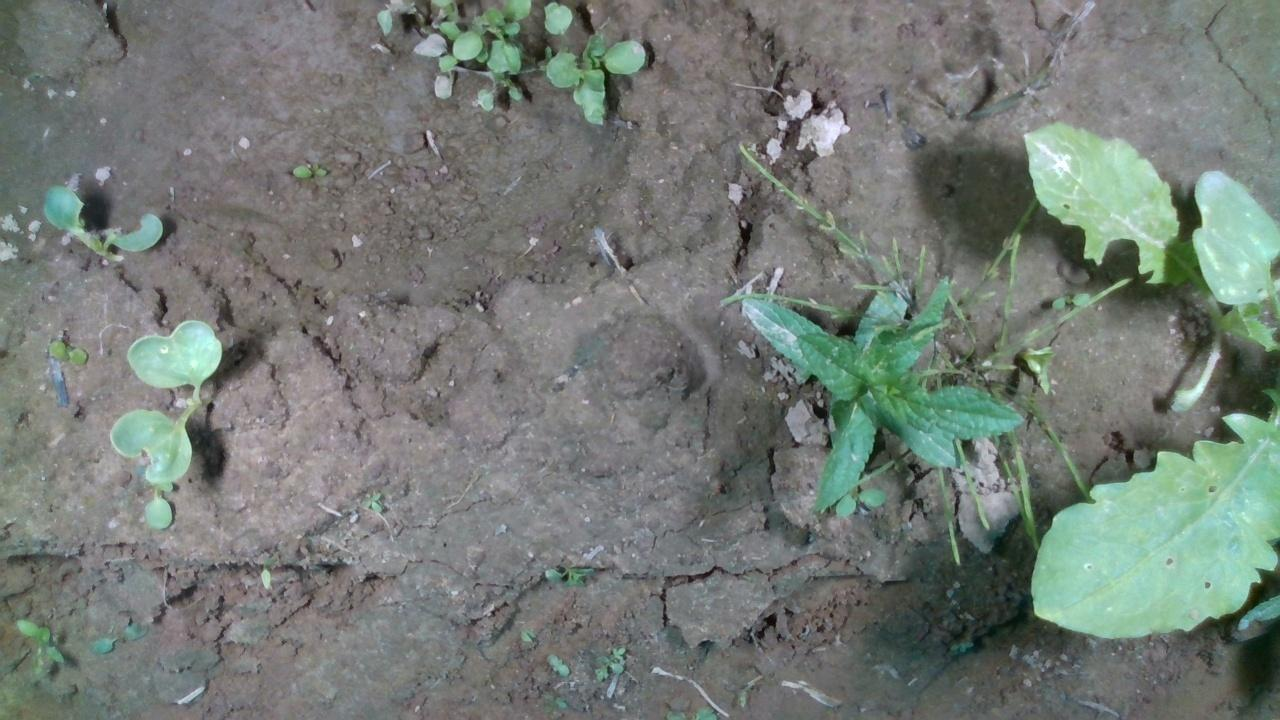weed: (44, 339, 89, 365), (289, 162, 327, 178), (544, 653, 569, 677)
